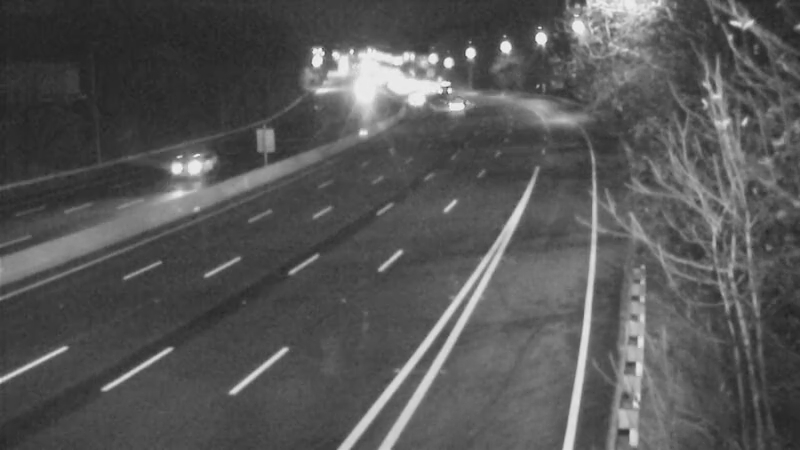vehicle: (149, 125, 229, 205), (423, 61, 473, 111), (390, 78, 440, 128), (428, 83, 478, 133)
